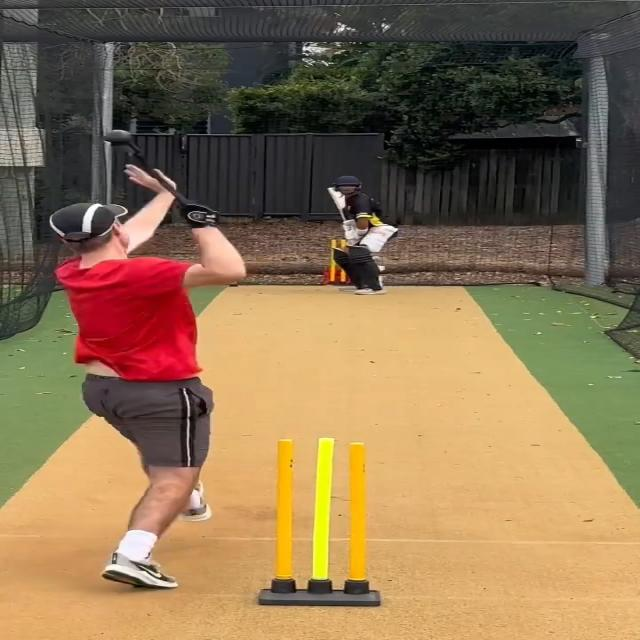stump: (257, 437, 382, 607)
